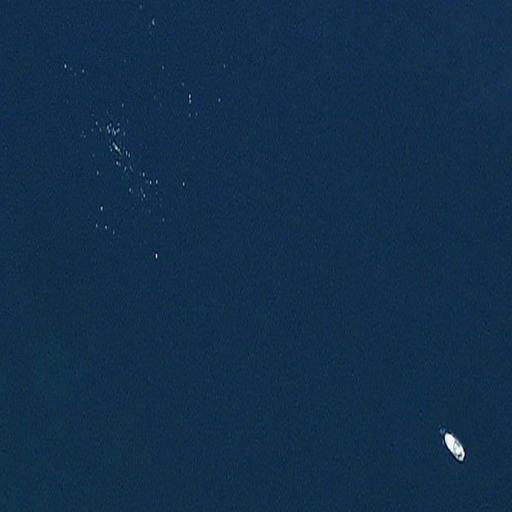ship: (439, 429, 468, 465)
